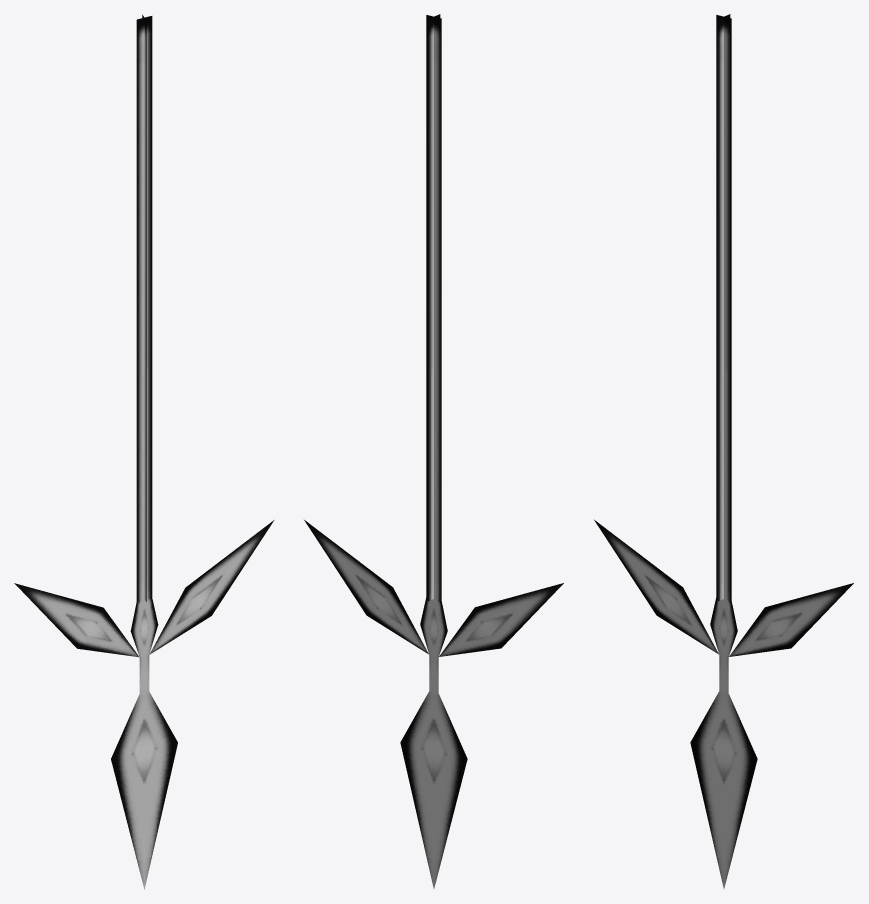
The model's file is 0336_jian01.glb.
3 views of the same model, side by side, from view 1: azimuth 30°, elevation 25°; view 2: azimuth 150°, elevation 25°; view 3: azimuth 330°, elevation 25° (orthographic).
Size of the model in its own units: 0.6882 by 2.2 by 0.0393.
1 material, 1 textured.
